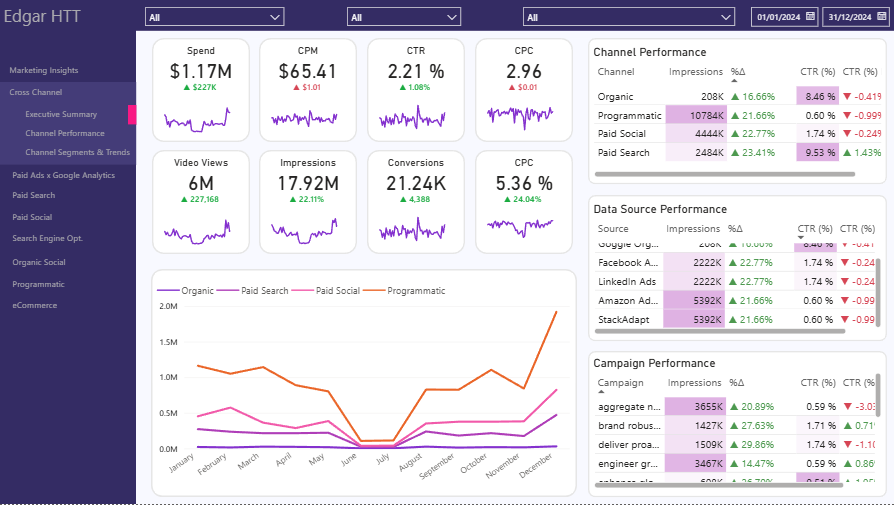

What the dashboard file says about the page in this screenshot:
{"tool":"powerbi","page":{"name":"Cross Channel","canvas":[1280,720],"ordinal":0},"visuals":[{"type":"shape","box":[195.7,0,1084.3,44.3],"z":0},{"type":"group","id":"g1","title":"Group 19","box":[215.7,54.8,610.1,311.4],"z":0,"group":"g5"},{"type":"group","id":"g2","title":"Group 17","box":[215.7,54.8,610.1,150],"z":0,"group":"g1"},{"type":"shape","box":[215.7,54.8,140,148.6],"z":0,"group":"g6"},{"type":"shape","box":[840.9,54.9,427.1,209],"z":0,"group":"g7"},{"type":"shape","box":[217,216.2,140,148.6],"z":0,"group":"g16"},{"type":"shape","box":[840.9,278.3,427.1,209],"z":0,"group":"g9"},{"type":"shape","box":[217.1,384.3,608.6,325.7],"z":0,"group":"g4"},{"type":"shape","box":[840.9,501.2,427.1,209],"z":0,"group":"g11"},{"type":"slicer","fields":{"Values":["dim_data_source.data_source_name"]},"box":[198.6,0,218.6,44.3],"z":1000},{"type":"shape","box":[372.8,56.2,140,148.6],"z":1000,"group":"g8"},{"type":"group","id":"g3","title":"Group 18","box":[217,216.2,608.4,150],"z":1000,"group":"g1"},{"type":"shape","box":[372.2,218.2,140,148],"z":1000,"group":"g15"},{"type":"group","id":"g4","title":"Group 20","box":[217.1,384.3,608.6,325.7],"z":1000,"group":"g5"},{"type":"shape","box":[0,0,195.7,720],"z":2000},{"type":"shape","box":[529.3,54.8,140,148.6],"z":2000,"group":"g10"},{"type":"shape","box":[530.2,218.2,140,148],"z":2000,"group":"g14"},{"type":"lineChart","fields":{"Y":["fact_marketing_performance.Total Impressions"],"Category":["dim_date.date.Variation.Date Hierarchy.Year","dim_date.date.Variation.Date Hierarchy.Month"],"Series":["dim_channel.channel_name"]},"box":[221.4,394.3,598.6,305.7],"z":2000,"group":"g4"},{"type":"slicer","fields":{"Values":["dim_channel.channel_name"]},"box":[486.4,0,182.9,44.3],"z":3000},{"type":"shape","box":[685.8,54.8,140,148.6],"z":3000,"group":"g12"},{"type":"slicer","fields":{"Values":["dim_campaign.campaing_name"]},"box":[738.6,0,322.9,44.3],"z":4000},{"type":"slicer","fields":{"Values":["dim_date.date"]},"box":[1061.4,0,218.6,44.3],"z":5000},{"type":"group","id":"g5","title":"Group 21","box":[215.7,54.8,610.1,655.2],"z":6000},{"type":"group","id":"g6","title":"Group 5","box":[215.7,54.8,140.5,148.6],"z":7000,"group":"g2"},{"type":"group","id":"g7","title":"Group 22","box":[840.9,54.9,427.1,209],"z":7000},{"type":"group","id":"g8","title":"Group 6","box":[372.8,56.2,140,148.6],"z":8000,"group":"g2"},{"type":"group","id":"g9","title":"Group 22","box":[840.9,278.3,427.1,208.6],"z":8000},{"type":"group","id":"g10","title":"Group 7","box":[529.3,54.8,140,148.6],"z":9000,"group":"g2"},{"type":"card","title":"Spend","fields":{"Values":["fact_marketing_performance.Total Cost"]},"box":[221.6,64.7,134.5,51.8],"z":9000,"group":"g23"},{"type":"group","id":"g11","title":"Group 22","box":[840.9,501.2,427.1,209],"z":9000},{"type":"tableEx","title":"Channel Performance","fields":{"Values":["dim_channel.channel_name","fact_marketing_performance.Total Impressions","fact_marketing_performance.Total Impressions MoM%","fact_marketing_performance.CTR (%)","fact_marketing_performance.CTR (%) MoM%"]},"box":[843.9,64.9,421,194],"z":9001,"group":"g7"},{"type":"tableEx","title":"Data Source Performance","fields":{"Values":["dim_data_source.data_source_name","fact_marketing_performance.Total Impressions","fact_marketing_performance.Total Impressions MoM%","fact_marketing_performance.CTR (%)","fact_marketing_performance.CTR (%) MoM%"]},"box":[847.9,286.1,412.9,194.3],"z":9001,"group":"g9"},{"type":"tableEx","title":"Campaign Performance","fields":{"Values":["dim_campaign.campaing_name","fact_marketing_performance.Total Impressions","fact_marketing_performance.Total Impressions MoM%","fact_marketing_performance.CTR (%)","fact_marketing_performance.CTR (%) MoM%"]},"box":[848,512.6,412.9,194.3],"z":9001,"group":"g11"},{"type":"group","id":"g12","title":"Group 8","box":[685.8,54.8,140,148.6],"z":10000,"group":"g2"},{"type":"card","title":"CPM","fields":{"Values":["fact_marketing_performance.CPM"]},"box":[377.2,65,134.5,51.8],"z":11000,"group":"g22"},{"type":"group","id":"g13","title":"Group 13","box":[685.4,217.6,140,148.6],"z":11000,"group":"g3"},{"type":"card","title":"CTR","fields":{"Values":["fact_marketing_performance.CTR (%)"]},"box":[532.9,65,134.5,51.8],"z":12000,"group":"g21"},{"type":"group","id":"g14","title":"Group 14","box":[530.2,218.2,140,148],"z":12000,"group":"g3"},{"type":"card","title":"CPC","fields":{"Values":["fact_marketing_performance.CPC"]},"box":[688.5,67.9,134.5,51.8],"z":13000,"group":"g20"},{"type":"group","id":"g15","title":"Group 15","box":[372.2,218.2,140,148],"z":13000,"group":"g3"},{"type":"card","title":"Video Views","fields":{"Values":["fact_marketing_performance.Total Video Views"]},"box":[219.3,222.3,134.5,51.8],"z":13000,"group":"g17"},{"type":"group","id":"g16","title":"Group 16","box":[217,216.2,140,148.6],"z":14000,"group":"g3"},{"type":"card","title":"Impresions","fields":{"Values":["fact_marketing_performance.Total Impressions"]},"box":[374.5,222.3,134.5,51.8],"z":14000,"group":"g18"},{"type":"group","id":"g17","title":"Group 9","box":[219.2,222.3,134.8,129.4],"z":15000,"group":"g16"},{"type":"card","title":"Conversions","fields":{"Values":["fact_marketing_performance.Total Conversions"]},"box":[533.9,222.3,134.5,51.8],"z":15000,"group":"g19"},{"type":"shape","box":[685.4,217.6,140,148.6],"z":16000,"group":"g13"},{"type":"group","id":"g18","title":"Group 10","box":[374.4,222.3,134.8,129.4],"z":16000,"group":"g15"},{"type":"group","id":"g19","title":"Group 11","box":[533.8,222.3,134.8,129.4],"z":17000,"group":"g14"},{"type":"lineChart","fields":{"Y":["fact_marketing_performance.Total Cost"],"Category":["dim_date.week"]},"box":[221.5,135.3,134.8,58.8],"z":18000,"group":"g23"},{"type":"lineChart","fields":{"Category":["dim_date.week"],"Y":["fact_marketing_performance.Total Video Views"]},"box":[219.2,292.9,134.8,58.8],"z":18000,"group":"g17"},{"type":"lineChart","fields":{"Category":["dim_date.week"],"Y":["fact_marketing_performance.Total Impressions"]},"box":[374.4,292.9,134.8,58.8],"z":19000,"group":"g18"},{"type":"lineChart","fields":{"Y":["fact_marketing_performance.CPM"],"Category":["dim_date.week"]},"box":[377.1,135.6,134.8,58.8],"z":20000,"group":"g22"},{"type":"lineChart","fields":{"Category":["dim_date.week"],"Y":["fact_marketing_performance.Total Conversions"]},"box":[533.8,292.9,134.8,58.8],"z":20000,"group":"g19"},{"type":"lineChart","fields":{"Category":["dim_date.week"],"Y":["fact_marketing_performance.CTR (%)"]},"box":[532.8,135.6,134.8,58.8],"z":21000,"group":"g21"},{"type":"kpi","fields":{"TrendLine":["dim_date.date.Variation.Date Hierarchy.Month"],"Indicator":["fact_marketing_performance.CTR (%)","fact_marketing_performance.Total Video Views","select"]},"box":[219.2,274.3,134.8,18.8],"z":21000,"group":"g17"},{"type":"lineChart","fields":{"Category":["dim_date.week"],"Y":["fact_marketing_performance.CPC"]},"box":[688.4,138.5,134.8,58.8],"z":22000,"group":"g20"},{"type":"kpi","fields":{"TrendLine":["dim_date.date.Variation.Date Hierarchy.Month"],"Indicator":["fact_marketing_performance.Total Impressions","select"]},"box":[374.4,274.3,134.8,18.8],"z":22000,"group":"g18"},{"type":"kpi","fields":{"TrendLine":["dim_date.date.Variation.Date Hierarchy.Month"],"Indicator":["fact_marketing_performance.Total Conversions","select"]},"box":[533.8,274.3,134.8,18.8],"z":23000,"group":"g19"},{"type":"card","title":"Conversion Rate","fields":{"Values":["fact_marketing_performance.Conversion Rate (%)"]},"box":[689.6,222.7,134.5,51.8],"z":24000,"group":"g24"},{"type":"lineChart","fields":{"Category":["dim_date.week"],"Y":["fact_marketing_performance.Conversion Rate (%)"]},"box":[689.5,293.3,134.8,58.8],"z":25000,"group":"g24"},{"type":"kpi","fields":{"Indicator":["fact_marketing_performance.Total Cost"],"TrendLine":["dim_date.date.Variation.Date Hierarchy.Month"],"Goal":["select"]},"box":[221.5,116.7,134.8,18.8],"z":26000,"group":"g23"},{"type":"kpi","fields":{"TrendLine":["dim_date.date.Variation.Date Hierarchy.Month"],"Indicator":["fact_marketing_performance.Conversion Rate (%)","select"]},"box":[689.5,274.7,134.8,18.8],"z":26000,"group":"g24"},{"type":"kpi","fields":{"TrendLine":["dim_date.date.Variation.Date Hierarchy.Month"],"Indicator":["fact_marketing_performance.CPM","select"]},"box":[377.1,117,134.8,18.8],"z":27000,"group":"g22"},{"type":"kpi","fields":{"TrendLine":["dim_date.date.Variation.Date Hierarchy.Month"],"Indicator":["fact_marketing_performance.CTR (%)","select"]},"box":[532.8,117,134.8,18.8],"z":28000,"group":"g21"},{"type":"kpi","fields":{"TrendLine":["dim_date.date.Variation.Date Hierarchy.Month"],"Indicator":["fact_marketing_performance.CPC","select"]},"box":[688.4,119.8,134.8,18.8],"z":29000,"group":"g20"},{"type":"group","id":"g20","title":"Group 1","box":[688.4,67.9,134.8,129.4],"z":31000,"group":"g12"},{"type":"group","id":"g21","title":"Group 2","box":[532.8,65,134.8,129.4],"z":32000,"group":"g10"},{"type":"group","id":"g22","title":"Group 3","box":[377.1,65,134.8,129.4],"z":33000,"group":"g8"},{"type":"group","id":"g23","title":"Group 4","box":[221.5,64.7,134.8,129.4],"z":34000,"group":"g6"},{"type":"group","id":"g24","title":"Group 12","box":[689.5,222.7,134.8,129.4],"z":34008,"group":"g13"}]}

Visuals, with their boxes on the page's 1280x720 design canvas (x1, y1, x2, y2). These are canvas units, not pixel positions in the 894x505 screenshot, which may show the page scaled, cropped or inside an application window:
shape: <region>196, 0, 1280, 44</region>
"Group 19" group: <region>216, 55, 826, 366</region>
"Group 17" group: <region>216, 55, 826, 205</region>
shape: <region>216, 55, 356, 203</region>
shape: <region>841, 55, 1268, 264</region>
shape: <region>217, 216, 357, 365</region>
shape: <region>841, 278, 1268, 487</region>
shape: <region>217, 384, 826, 710</region>
shape: <region>841, 501, 1268, 710</region>
slicer - dim_data_source.data_source_name: <region>199, 0, 417, 44</region>
shape: <region>373, 56, 513, 205</region>
"Group 18" group: <region>217, 216, 825, 366</region>
shape: <region>372, 218, 512, 366</region>
"Group 20" group: <region>217, 384, 826, 710</region>
shape: <region>0, 0, 196, 720</region>
shape: <region>529, 55, 669, 203</region>
shape: <region>530, 218, 670, 366</region>
lineChart - fact_marketing_performance.Total Impressions x dim_date.date.Variation.Date Hierarchy.Year: <region>221, 394, 820, 700</region>
slicer - dim_channel.channel_name: <region>486, 0, 669, 44</region>
shape: <region>686, 55, 826, 203</region>
slicer - dim_campaign.campaing_name: <region>739, 0, 1062, 44</region>
slicer - dim_date.date: <region>1061, 0, 1280, 44</region>
"Group 21" group: <region>216, 55, 826, 710</region>
"Group 5" group: <region>216, 55, 356, 203</region>
"Group 22" group: <region>841, 55, 1268, 264</region>
"Group 6" group: <region>373, 56, 513, 205</region>
"Group 22" group: <region>841, 278, 1268, 487</region>
"Group 7" group: <region>529, 55, 669, 203</region>
"Spend" card: <region>222, 65, 356, 116</region>
"Group 22" group: <region>841, 501, 1268, 710</region>
"Channel Performance" tableEx: <region>844, 65, 1265, 259</region>
"Data Source Performance" tableEx: <region>848, 286, 1261, 480</region>
"Campaign Performance" tableEx: <region>848, 513, 1261, 707</region>
"Group 8" group: <region>686, 55, 826, 203</region>
"CPM" card: <region>377, 65, 512, 117</region>
"Group 13" group: <region>685, 218, 825, 366</region>
"CTR" card: <region>533, 65, 667, 117</region>
"Group 14" group: <region>530, 218, 670, 366</region>
"CPC" card: <region>688, 68, 823, 120</region>
"Group 15" group: <region>372, 218, 512, 366</region>
"Video Views" card: <region>219, 222, 354, 274</region>
"Group 16" group: <region>217, 216, 357, 365</region>
"Impresions" card: <region>374, 222, 509, 274</region>
"Group 9" group: <region>219, 222, 354, 352</region>
"Conversions" card: <region>534, 222, 668, 274</region>
shape: <region>685, 218, 825, 366</region>
"Group 10" group: <region>374, 222, 509, 352</region>
"Group 11" group: <region>534, 222, 669, 352</region>
lineChart - fact_marketing_performance.Total Cost x dim_date.week: <region>222, 135, 356, 194</region>
lineChart - dim_date.week x fact_marketing_performance.Total Video Views: <region>219, 293, 354, 352</region>
lineChart - dim_date.week x fact_marketing_performance.Total Impressions: <region>374, 293, 509, 352</region>
lineChart - fact_marketing_performance.CPM x dim_date.week: <region>377, 136, 512, 194</region>
lineChart - dim_date.week x fact_marketing_performance.Total Conversions: <region>534, 293, 669, 352</region>
lineChart - dim_date.week x fact_marketing_performance.CTR (%): <region>533, 136, 668, 194</region>
kpi - dim_date.date.Variation.Date Hierarchy.Month x fact_marketing_performance.CTR (%): <region>219, 274, 354, 293</region>
lineChart - dim_date.week x fact_marketing_performance.CPC: <region>688, 138, 823, 197</region>
kpi - dim_date.date.Variation.Date Hierarchy.Month x fact_marketing_performance.Total Impressions: <region>374, 274, 509, 293</region>
kpi - dim_date.date.Variation.Date Hierarchy.Month x fact_marketing_performance.Total Conversions: <region>534, 274, 669, 293</region>
"Conversion Rate" card: <region>690, 223, 824, 274</region>
lineChart - dim_date.week x fact_marketing_performance.Conversion Rate (%): <region>690, 293, 824, 352</region>
kpi - fact_marketing_performance.Total Cost x dim_date.date.Variation.Date Hierarchy.Month: <region>222, 117, 356, 136</region>
kpi - dim_date.date.Variation.Date Hierarchy.Month x fact_marketing_performance.Conversion Rate (%): <region>690, 275, 824, 294</region>
kpi - dim_date.date.Variation.Date Hierarchy.Month x fact_marketing_performance.CPM: <region>377, 117, 512, 136</region>
kpi - dim_date.date.Variation.Date Hierarchy.Month x fact_marketing_performance.CTR (%): <region>533, 117, 668, 136</region>
kpi - dim_date.date.Variation.Date Hierarchy.Month x fact_marketing_performance.CPC: <region>688, 120, 823, 139</region>
"Group 1" group: <region>688, 68, 823, 197</region>
"Group 2" group: <region>533, 65, 668, 194</region>
"Group 3" group: <region>377, 65, 512, 194</region>
"Group 4" group: <region>222, 65, 356, 194</region>
"Group 12" group: <region>690, 223, 824, 352</region>
